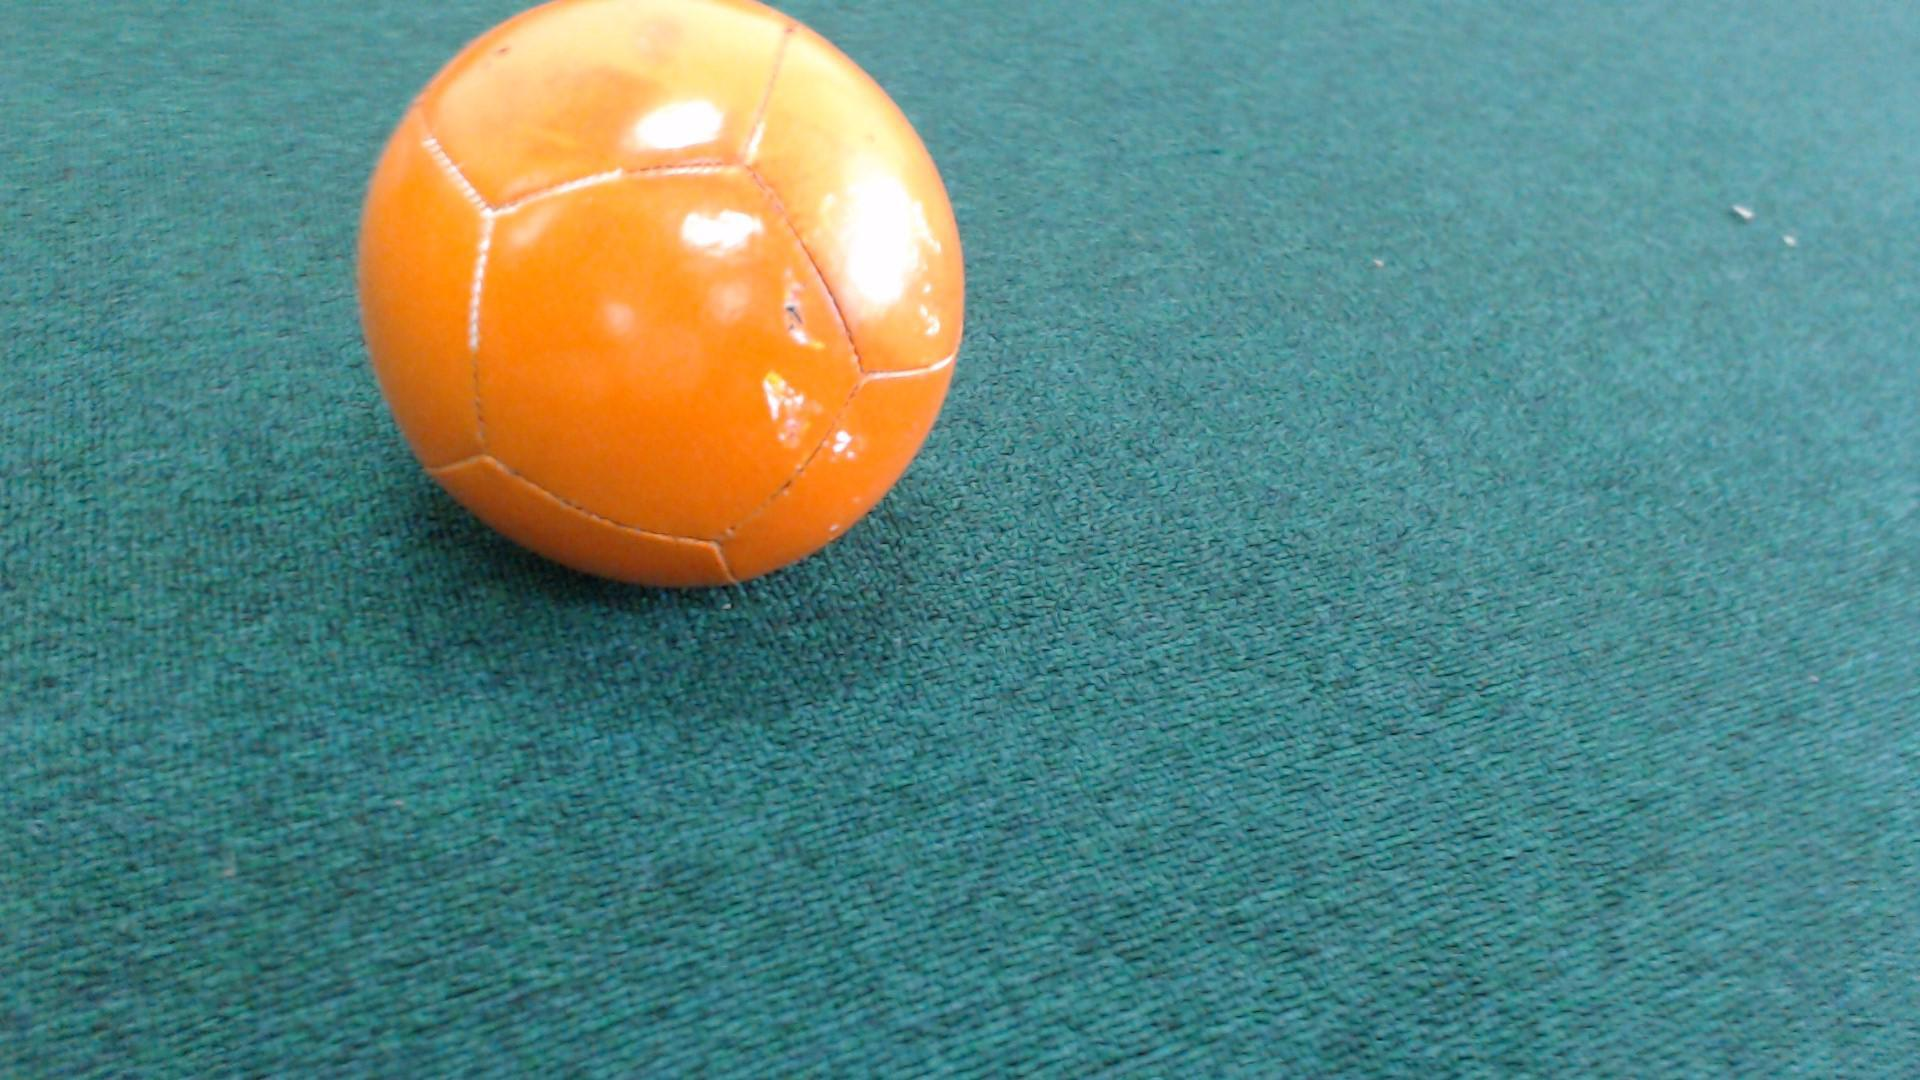bola: (328, 3, 1007, 629)
